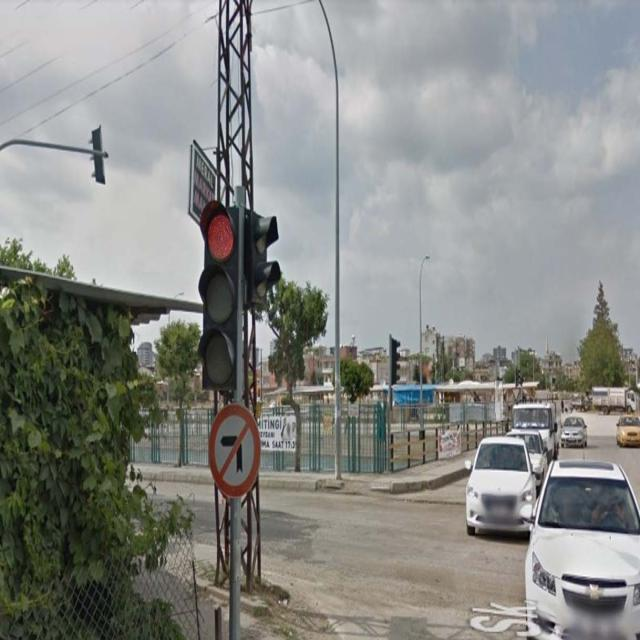kirmizi: (201, 202, 239, 388)
soladonulmez: (209, 404, 260, 496)
